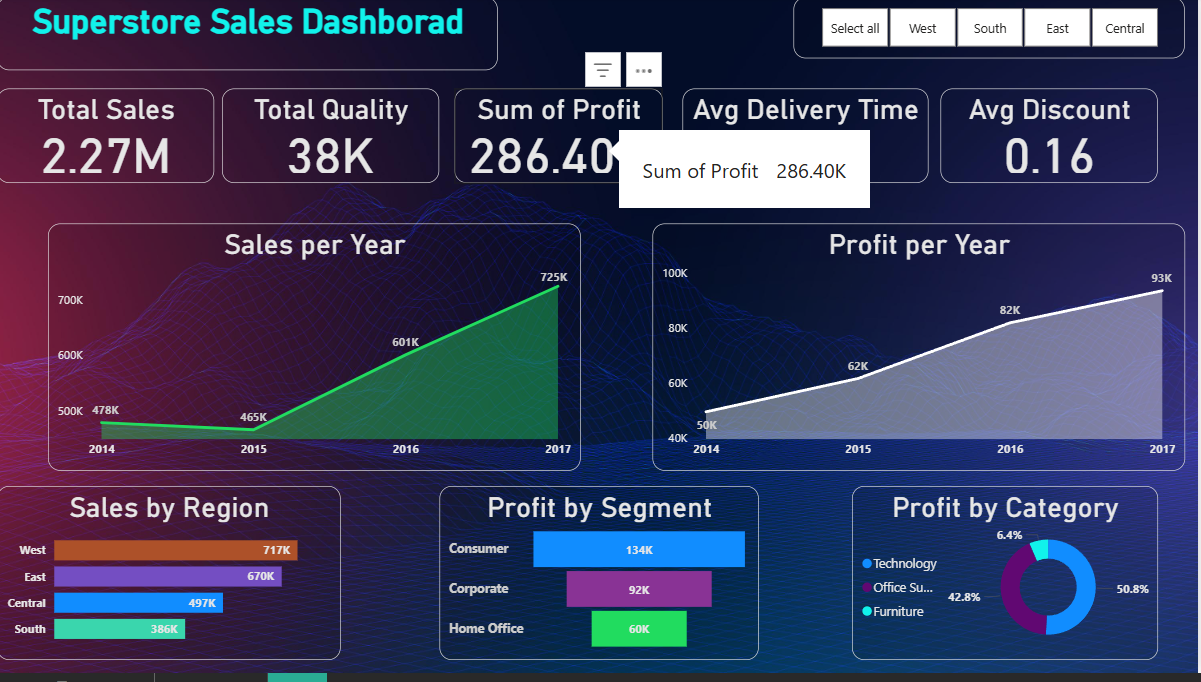

What the dashboard file says about the page in this screenshot:
{"tool":"powerbi","page":{"name":"Page 1","canvas":[1280,720],"ordinal":0},"visuals":[{"type":"card","title":"Total Sales","fields":{"Values":["Sum(raw_cleaned_excel (2). Sales )"]},"box":[0,97.5,231.7,100.7],"z":0},{"type":"card","title":"Sum of Profit","fields":{"Values":["Sum(raw_cleaned_excel (2). Profit )"]},"box":[487.3,97.5,222.1,100.7],"z":1000},{"type":"card","title":"Total Quality","fields":{"Values":["Sum(raw_cleaned_excel (2).Quantity)"]},"box":[239.7,97.5,231.7,100.7],"z":2000},{"type":"barChart","title":"Sales by Region","fields":{"Y":["Sum(raw_cleaned_excel (2). Sales )"],"Category":["raw_cleaned_excel (2).Region"]},"box":[0,520.8,365.9,185.3],"z":3000},{"type":"donutChart","title":"Profit by Category","fields":{"Category":["raw_cleaned_excel (2).Category"],"Y":["Sum(raw_cleaned_excel (2). Profit )"]},"box":[910.7,520.8,325.9,185.3],"z":4000},{"type":"areaChart","title":"Sales per Year","fields":{"Y":["Sum(raw_cleaned_excel (2). Sales )"],"Category":["raw_cleaned_excel (2).Order Date.Variation.Date Hierarchy.Year"]},"box":[54.3,241.2,567.2,263.6],"z":5000},{"type":"areaChart","title":"Profit per Year","fields":{"Category":["raw_cleaned_excel (2).Order Date.Variation.Date Hierarchy.Year"],"Y":["Sum(raw_cleaned_excel (2). Profit )"]},"box":[698.2,241.2,567,263.6],"z":6000},{"type":"funnel","title":"Profit by Segment","fields":{"Category":["raw_cleaned_excel (2).Segment"],"Y":["Sum(raw_cleaned_excel (2). Profit )"]},"box":[471.3,520.8,340.3,185.3],"z":7000},{"type":"slicer","title":"Region","fields":{"Values":["raw_cleaned_excel (2).Region"]},"box":[848.3,0,416.7,65],"z":8000},{"type":"card","title":"Avg Delivery Time","fields":{"Values":["Avg(raw_cleaned_excel (2).Delivery Days)"]},"box":[730.1,97.5,262,100.7],"z":9000},{"type":"textbox","title":"Superstore Sales Dashborad","box":[0,0,533.6,78.3],"z":10000},{"type":"card","title":"Avg Discount","fields":{"Values":["Avg(raw_cleaned_excel (2).Discount)"]},"box":[1004.9,97.5,231.7,100.7],"z":11000}]}

Visuals, with their boxes in screenshot pixels (x1, y1, x2, y2), scaled from the page's 1280x720 canvas onto the 1201x682 screenshot:
"Total Sales" card: bbox=(0, 92, 217, 188)
"Sum of Profit" card: bbox=(457, 92, 666, 188)
"Total Quality" card: bbox=(225, 92, 442, 188)
"Sales by Region" barChart: bbox=(0, 493, 343, 669)
"Profit by Category" donutChart: bbox=(854, 493, 1160, 669)
"Sales per Year" areaChart: bbox=(51, 228, 583, 478)
"Profit per Year" areaChart: bbox=(655, 228, 1187, 478)
"Profit by Segment" funnel: bbox=(442, 493, 762, 669)
"Region" slicer: bbox=(796, 0, 1187, 62)
"Avg Delivery Time" card: bbox=(685, 92, 931, 188)
"Superstore Sales Dashborad" textbox: bbox=(0, 0, 501, 74)
"Avg Discount" card: bbox=(943, 92, 1160, 188)
